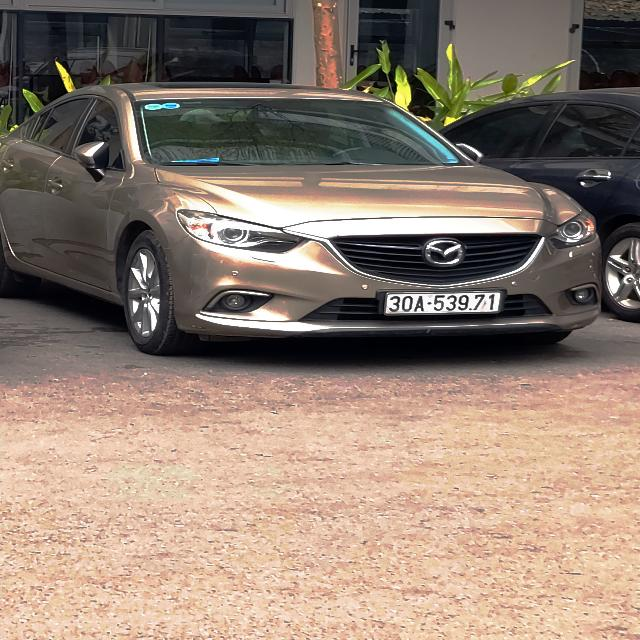license_plate: (386, 292, 504, 316)
